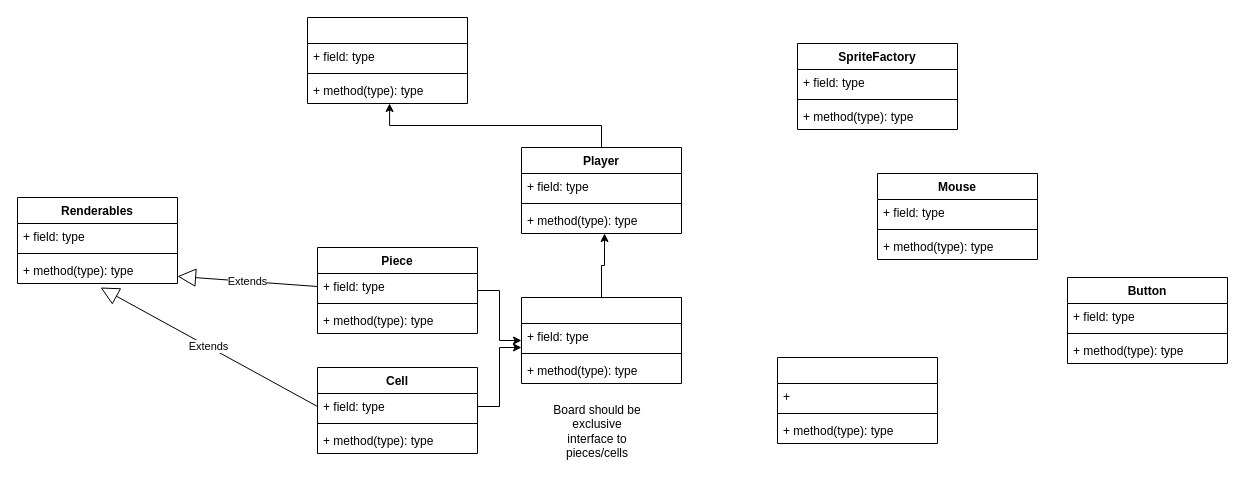
The diagram is 1245 pixels wide and 485 high, and some of its shapes have lost their labels. Here are the shapes that lost their labels. From the top down, the box of each, then its label:
(306, 16, 468, 104): GameManager
(520, 296, 682, 384): Board
(776, 356, 938, 444): Turn
